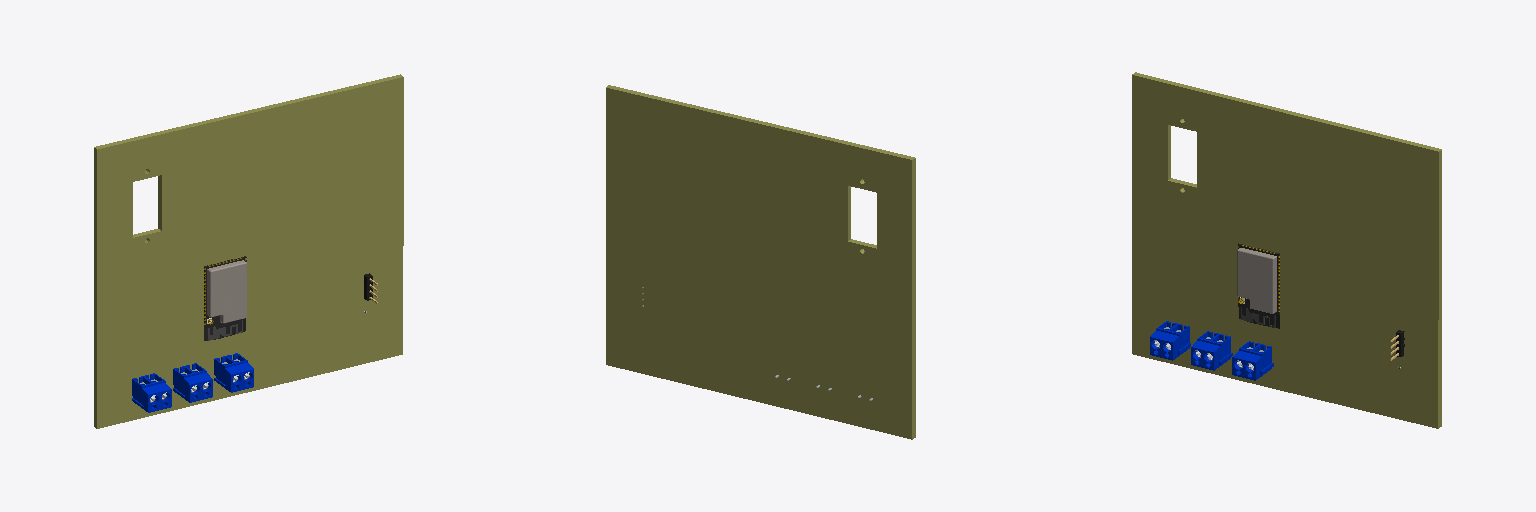
File: OBJ_PCB_Aquario.obj
The picture shows the model from 3 angles: view 1: azimuth 30°, elevation 25°; view 2: azimuth 150°, elevation 25°; view 3: azimuth 330°, elevation 25°; orthographic projection.
Size of the model in its own units: 520 by 453 by 66.52.